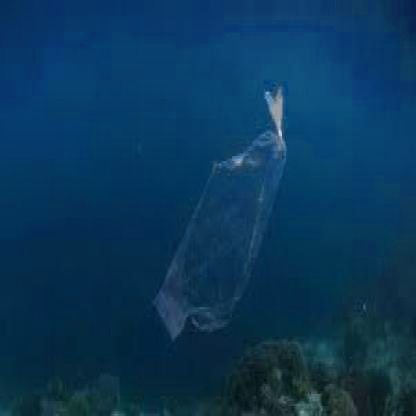pbag: (145, 87, 299, 349)
